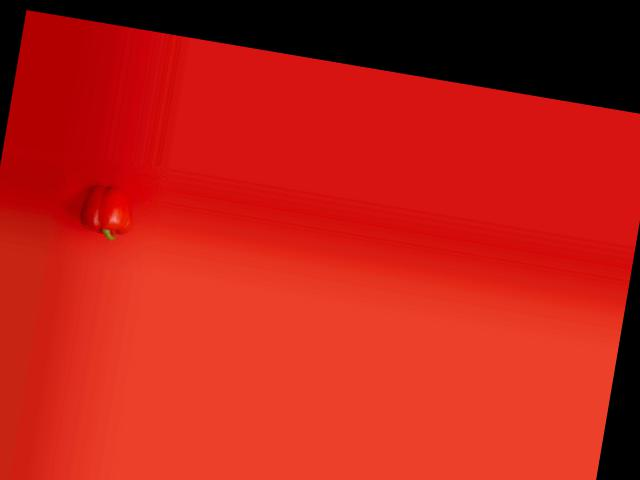bell_pepper: (74, 177, 135, 244)
